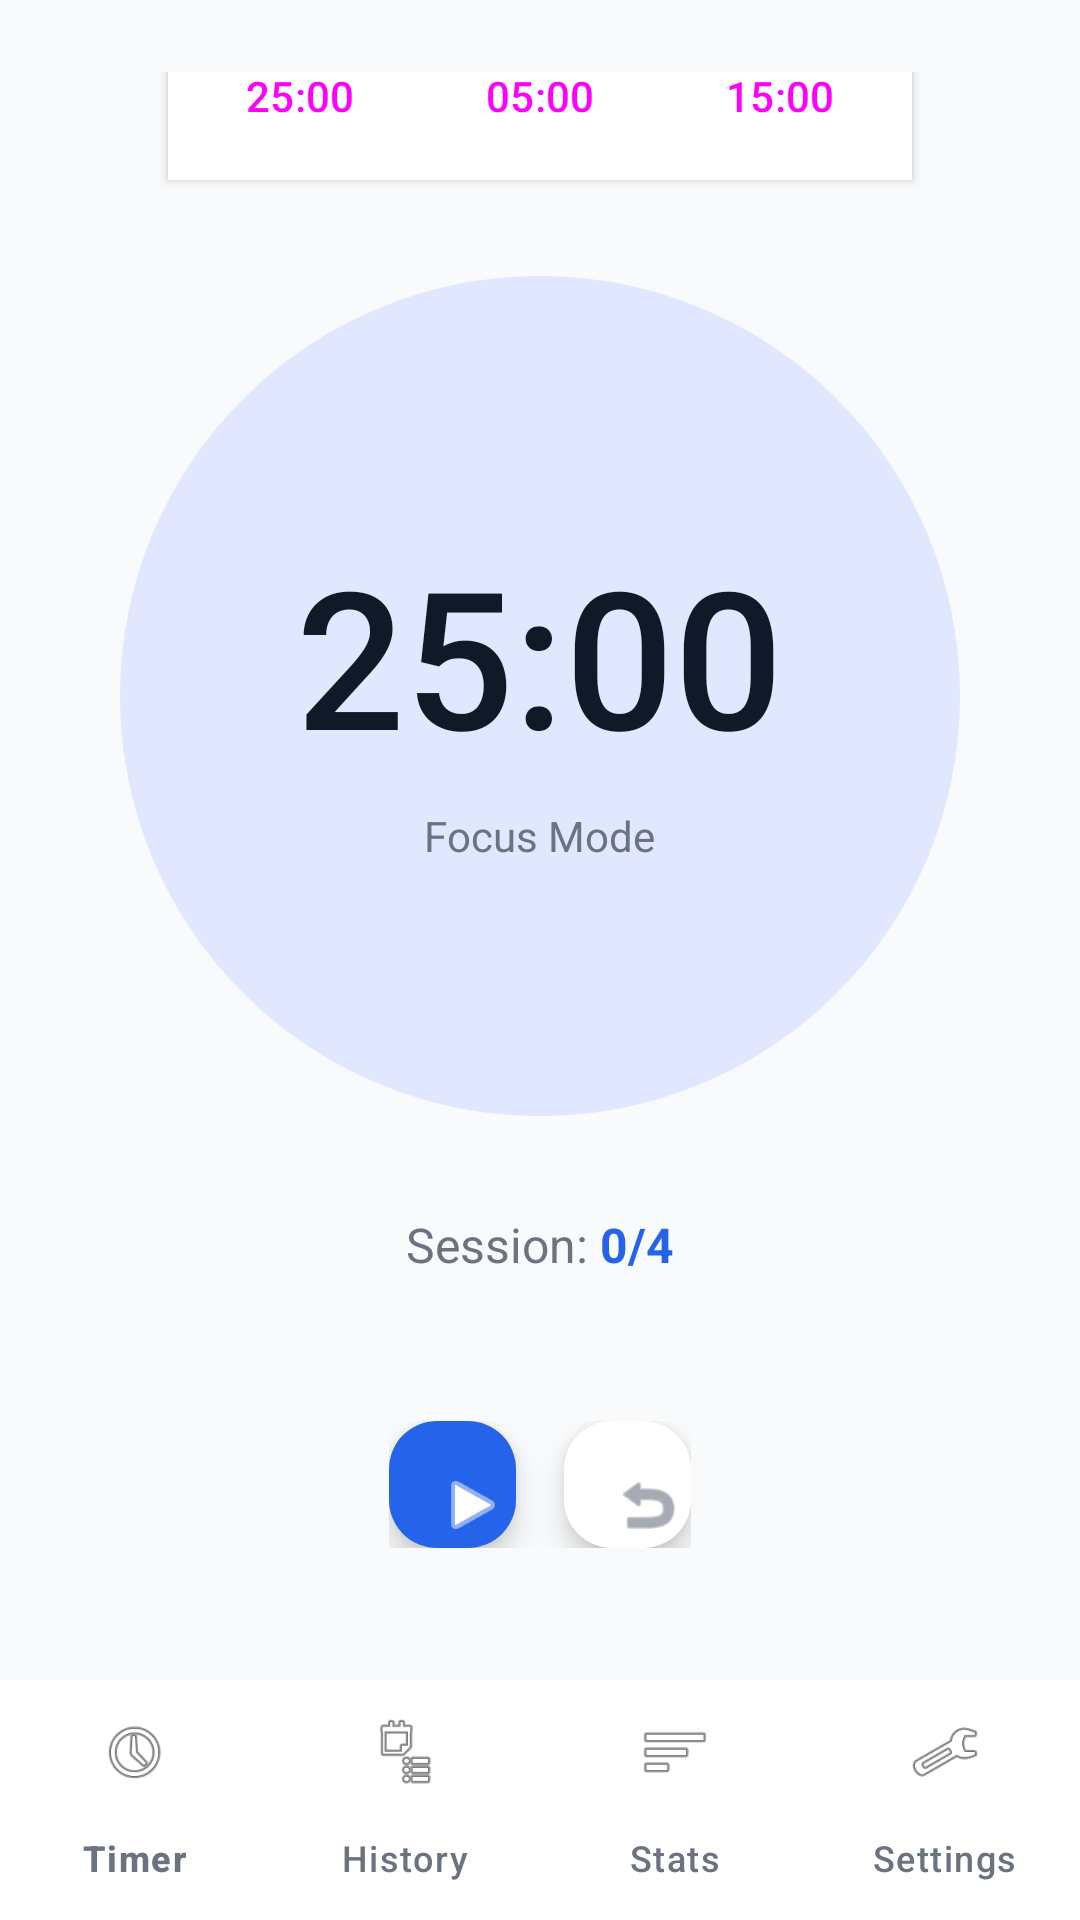

Icons on this 1080 × 1920 Android screen, each with its box as box=[x1, y1, x2, y2]:
play: box=[389, 1421, 516, 1548]
revert: box=[565, 1482, 691, 1548]
